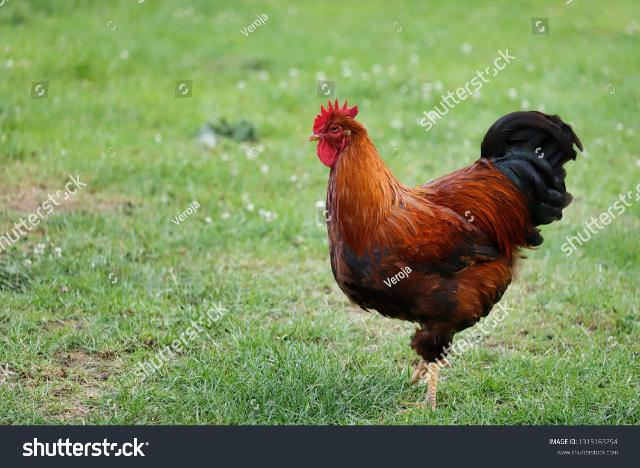Chicken: (309, 96, 583, 410)
